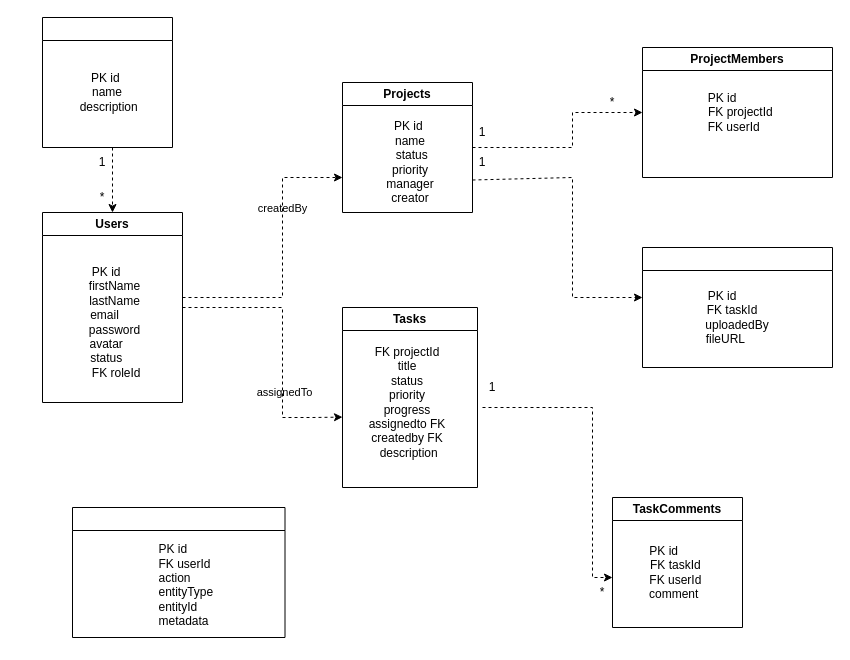
Some shapes in this 850 by 660 pixel diagram are drawn without their labels. Here are the shapes that lost their labels. From the top down, the box of each, then its label:
(42, 16, 172, 148): Roles
(642, 246, 832, 368): TaskAttachments
(72, 506, 285, 638): ActivityLogs
